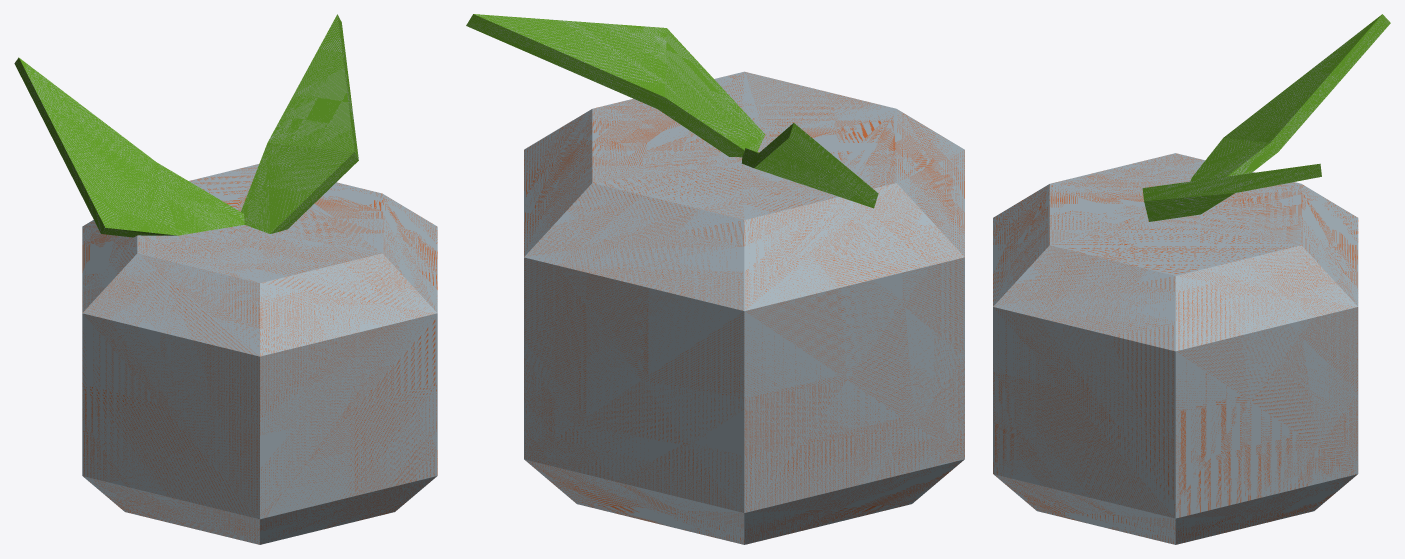
The model's file is Pumpkin_01.fbx.
3 renders of one model, left to right at view 1: azimuth 30°, elevation 25°; view 2: azimuth 150°, elevation 25°; view 3: azimuth 270°, elevation 25°, orthographic. The views are drawn at different scales.
Visible parts, largest first — view 1: Model; view 2: Model; view 3: Model.
Boxes of the visible parts, <box> form: Model: <box>14,14,437,544</box>; Model: <box>466,14,964,544</box>; Model: <box>993,14,1390,544</box>.
Bounding box in the file's own units: 102 × 105 × 96.06.
